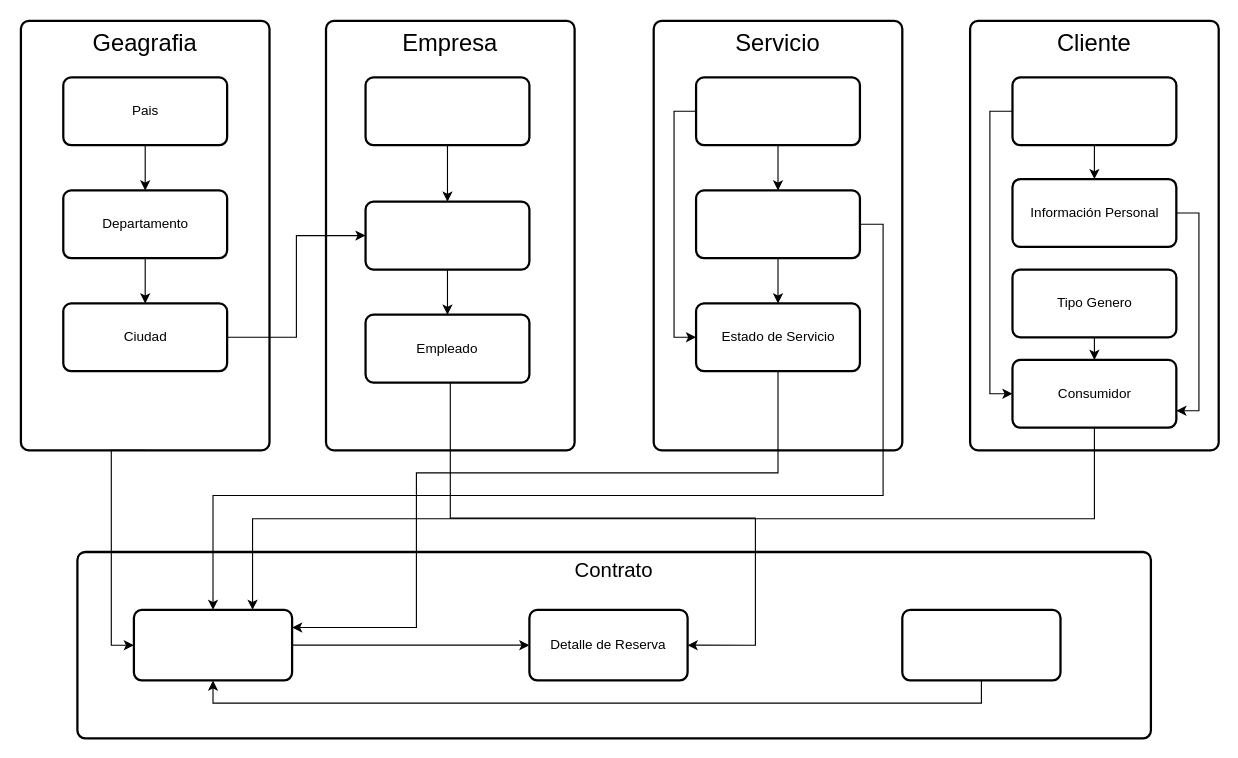
Some shapes in this 1238 by 758 pixel diagram are drawn without their labels. Each missing label, with the box of its shape:
Barberia: (364, 76, 530, 146)
Catalogo: (694, 189, 860, 259)
Estado de Reserva: (901, 608, 1061, 681)
Reserva: (132, 608, 293, 681)
Sede: (364, 200, 530, 270)
Tipo de Documento: (1011, 76, 1177, 146)
Tipo de Servicio: (694, 76, 860, 146)
